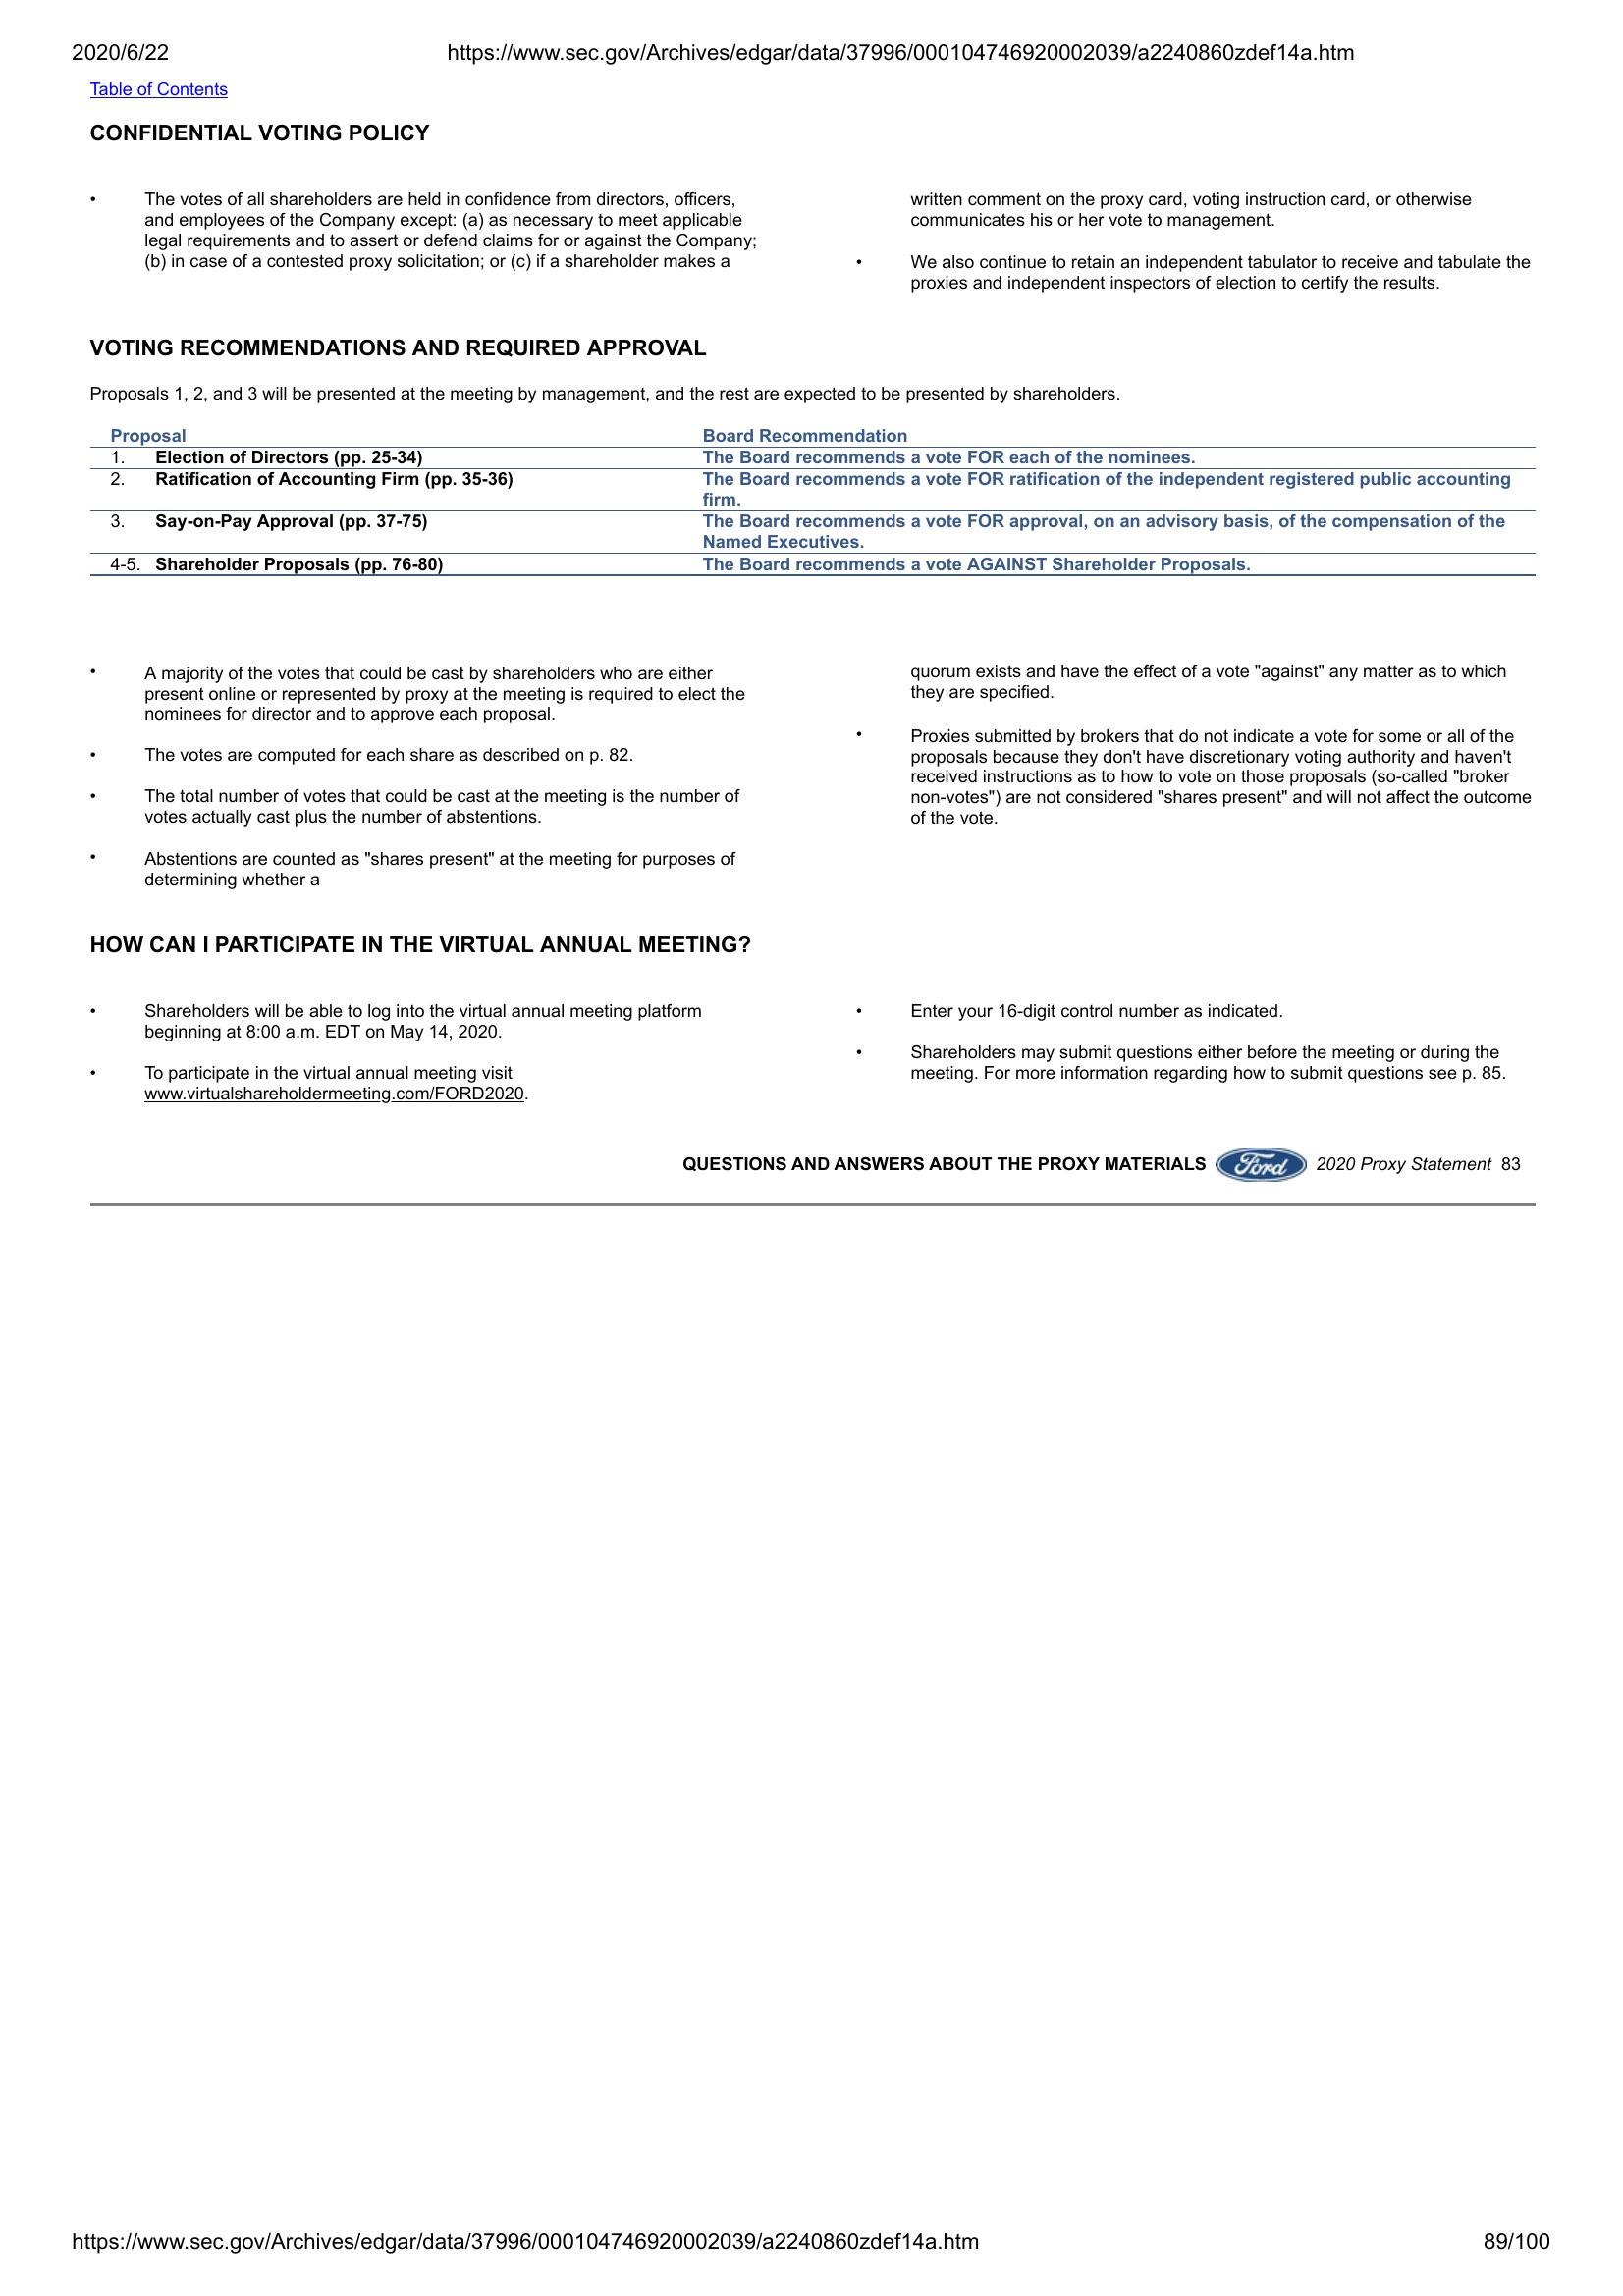table: (84, 421, 1542, 583)
